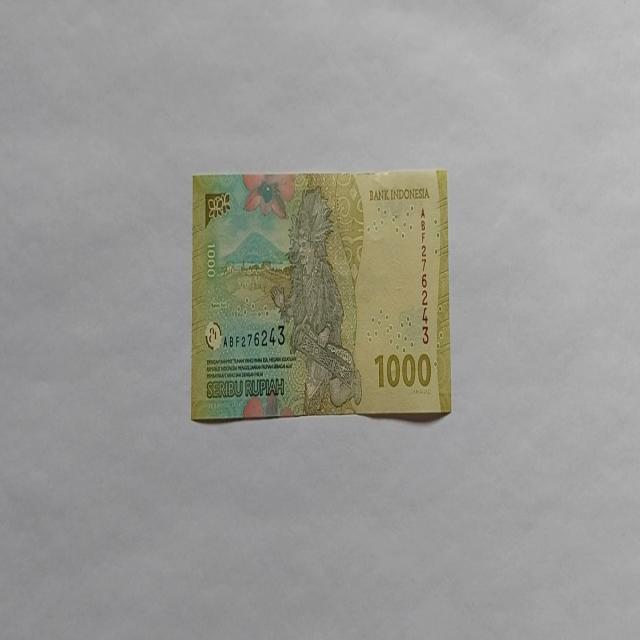seribu rupiah kertas: (190, 168, 452, 422)
